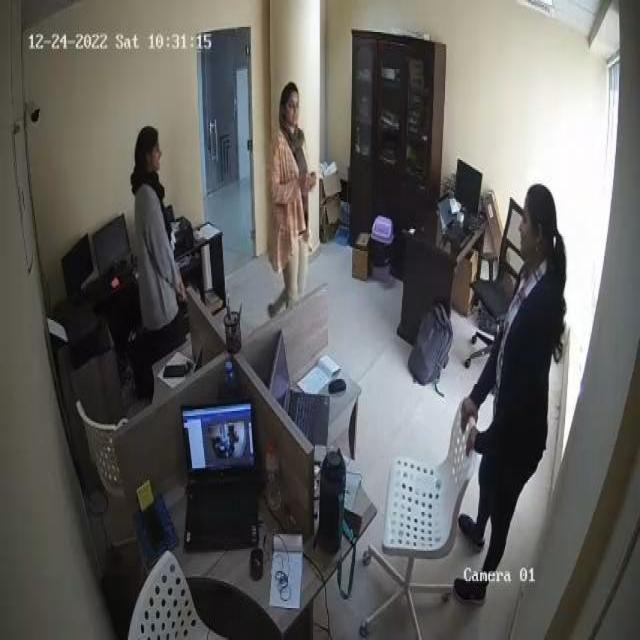bare_hand: (457, 423, 492, 463), (453, 381, 479, 429), (298, 162, 323, 200), (168, 271, 191, 310)
